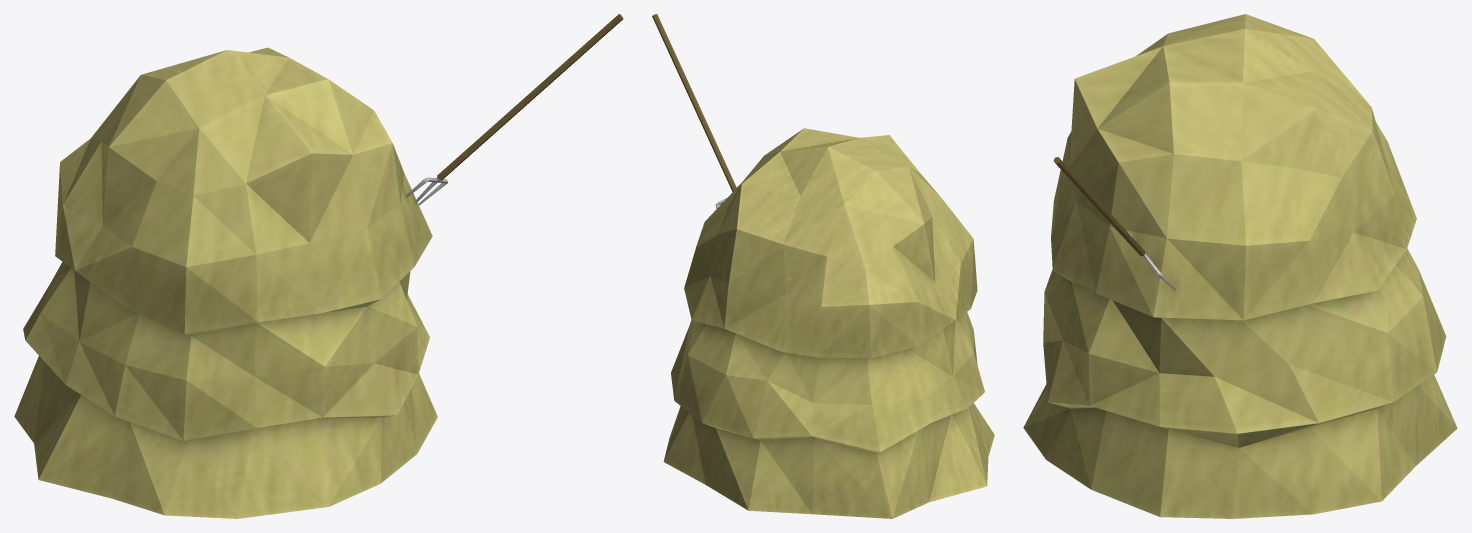
File: ev_hay.glb
3 views of the same model, side by side, from view 1: azimuth 30°, elevation 25°; view 2: azimuth 150°, elevation 25°; view 3: azimuth 270°, elevation 25° (orthographic). The views are drawn at different scales.
Parts seen in each view (by area): view 1: Haystack_mesh; view 2: Haystack_mesh; view 3: Haystack_mesh.
Part boxes in pixels (<box>): Haystack_mesh: <box>14,14,623,518</box>; Haystack_mesh: <box>652,14,994,518</box>; Haystack_mesh: <box>1023,14,1457,518</box>.
Bounding box in the file's own units: 11.59 × 8.98 × 8.25.
1 material, 1 textured.
